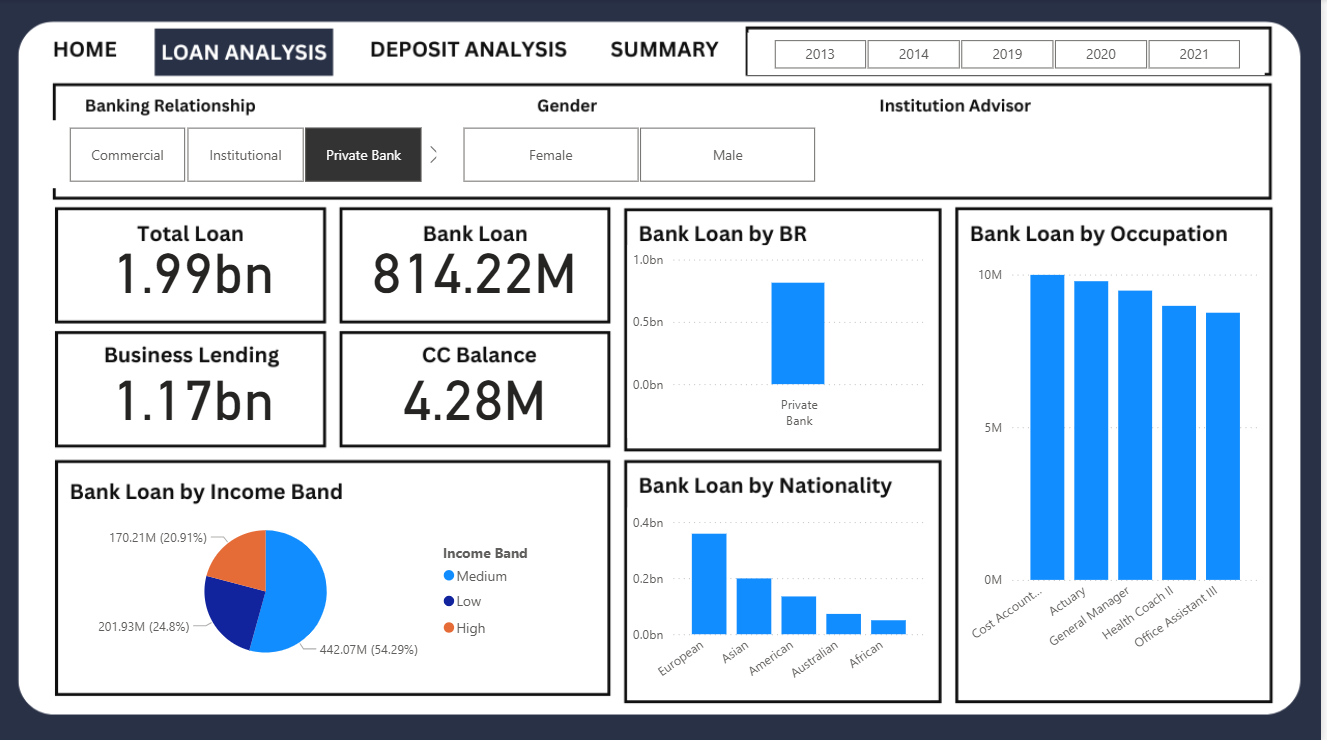

This screenshot's page, from the dashboard's own definition file:
{"tool":"powerbi","page":{"name":"Loan Analysis","canvas":[1280,720],"ordinal":1},"visuals":[{"type":"actionButton","box":[45.3,32.9,100.2,39.8],"z":0},{"type":"actionButton","box":[590.1,31.6,113.9,39.8],"z":1000},{"type":"actionButton","box":[145.5,32.9,183.9,39.8],"z":2000},{"type":"actionButton","box":[349.9,34.3,218.2,39.8],"z":3000},{"type":"slicer","fields":{"Values":["banking-clients.joined_year"]},"box":[725.9,32.9,499.5,41.2],"z":4000},{"type":"card","fields":{"Values":["banking-clients.Total Loans"]},"box":[85.1,237.4,211.3,63.1],"z":4001},{"type":"card","fields":{"Values":["Sum(banking-clients.Bank Loans)"]},"box":[356.8,237.4,211.3,63.1],"z":4002},{"type":"card","fields":{"Values":["Sum(banking-clients.Business Lending)"]},"box":[85.1,359.5,211.3,63.1],"z":4003},{"type":"card","fields":{"Values":["Sum(banking-clients.Credit Card Balance)"]},"box":[356.8,359.5,211.3,63.1],"z":4004},{"type":"pieChart","fields":{"Category":["banking-clients.Income Band"],"Y":["Sum(banking-clients.Bank Loans)"]},"box":[85.1,491.3,451.5,161.9],"z":4008},{"type":"columnChart","fields":{"Category":["banking-clients.BRId"],"Y":["Sum(banking-clients.Bank Loans)"]},"box":[610.6,237.4,292.3,185.2],"z":4009},{"type":"columnChart","fields":{"Category":["banking-clients.Nationality"],"Y":["Sum(banking-clients.Bank Loans)"]},"box":[610.6,491.3,292.3,185.2],"z":4010},{"type":"columnChart","fields":{"Y":["Sum(banking-clients.Bank Loans)"],"Category":["banking-clients.Occupation"]},"box":[933.1,252.5,292.3,400.7],"z":4011},{"type":"slicer","title":"BRId","fields":{"Values":["banking-clients.BRId"]},"box":[45.3,116.6,389.7,65.9],"z":4012},{"type":"slicer","title":"BRId","fields":{"Values":["banking-clients.GenderId"]},"box":[425.4,116.6,389.7,65.9],"z":4013}]}

Visuals, with their boxes in screenshot pixels (x1, y1, x2, y2), scaled from the page's 1280x720 canvas onto the 1327x740 screenshot:
actionButton: x1=47, y1=34, x2=151, y2=75
actionButton: x1=612, y1=32, x2=730, y2=73
actionButton: x1=151, y1=34, x2=341, y2=75
actionButton: x1=363, y1=35, x2=589, y2=76
slicer - banking-clients.joined_year: x1=753, y1=34, x2=1270, y2=76
card - banking-clients.Total Loans: x1=88, y1=244, x2=307, y2=309
card - Sum(banking-clients.Bank Loans): x1=370, y1=244, x2=589, y2=309
card - Sum(banking-clients.Business Lending): x1=88, y1=369, x2=307, y2=434
card - Sum(banking-clients.Credit Card Balance): x1=370, y1=369, x2=589, y2=434
pieChart - banking-clients.Income Band x Sum(banking-clients.Bank Loans): x1=88, y1=505, x2=556, y2=671
columnChart - banking-clients.BRId x Sum(banking-clients.Bank Loans): x1=633, y1=244, x2=936, y2=434
columnChart - banking-clients.Nationality x Sum(banking-clients.Bank Loans): x1=633, y1=505, x2=936, y2=695
columnChart - Sum(banking-clients.Bank Loans) x banking-clients.Occupation: x1=967, y1=260, x2=1270, y2=671
"BRId" slicer: x1=47, y1=120, x2=451, y2=188
"BRId" slicer: x1=441, y1=120, x2=845, y2=188
